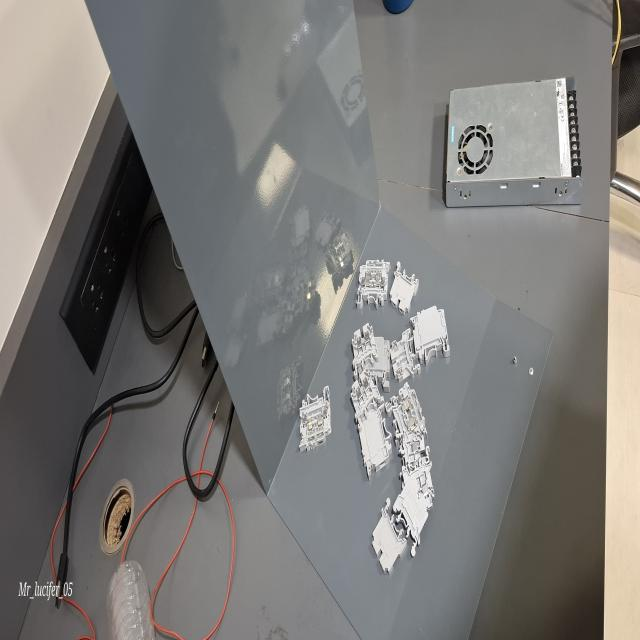Inverted: (392, 474, 431, 561), (370, 495, 408, 583), (391, 254, 424, 316)
Pass: (347, 360, 385, 434), (344, 318, 380, 382)
Reject: (384, 322, 426, 384)
